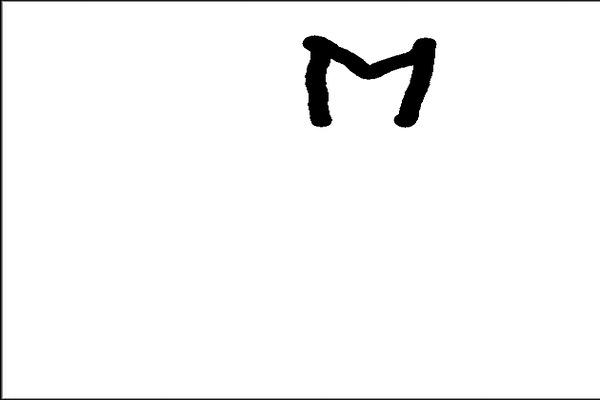M: (296, 28, 439, 139)
